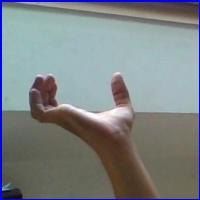B: (22, 66, 142, 152)
